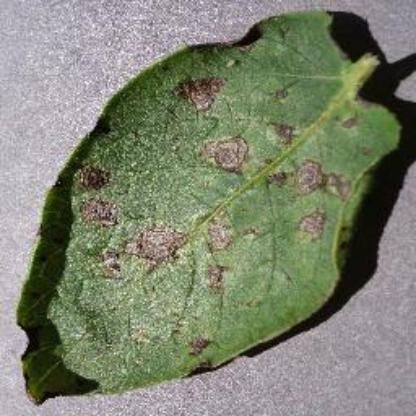Early-Blight: (17, 3, 416, 415)
